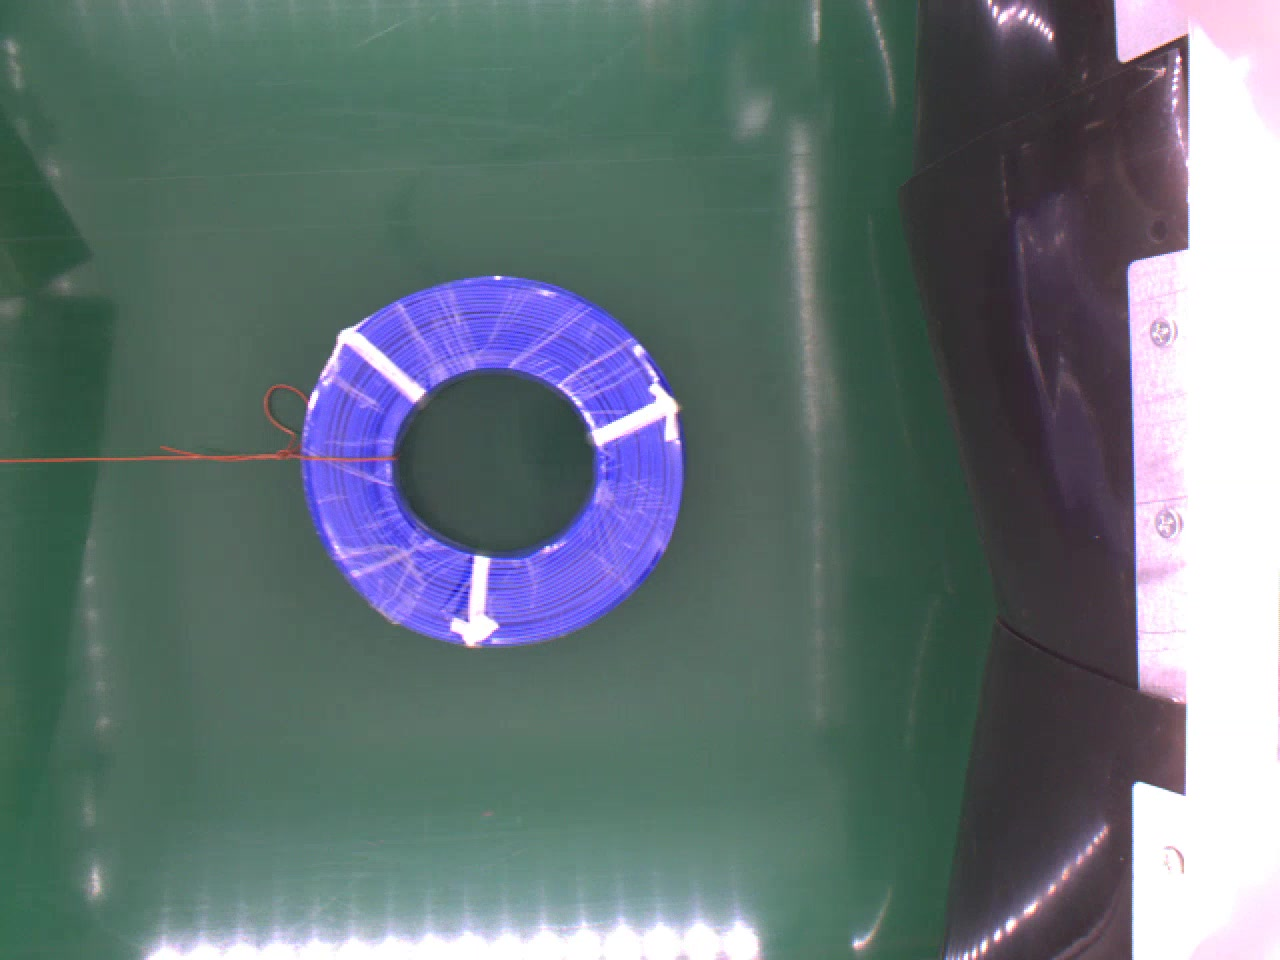blue: (298, 273, 690, 650)
